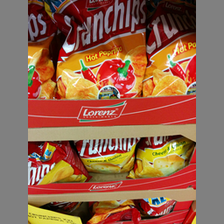chips: (49, 1, 146, 95), (145, 3, 196, 96), (27, 141, 89, 185), (72, 140, 138, 172)
